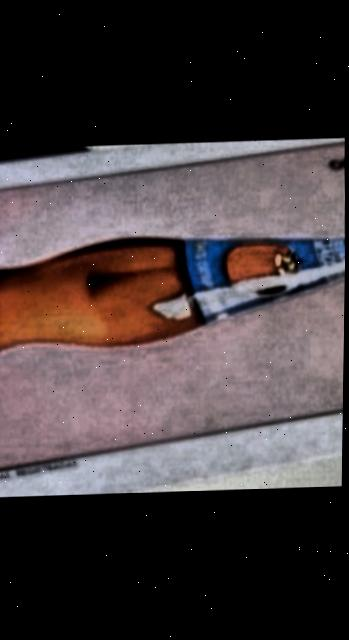La Botella: (0, 146, 345, 470)
